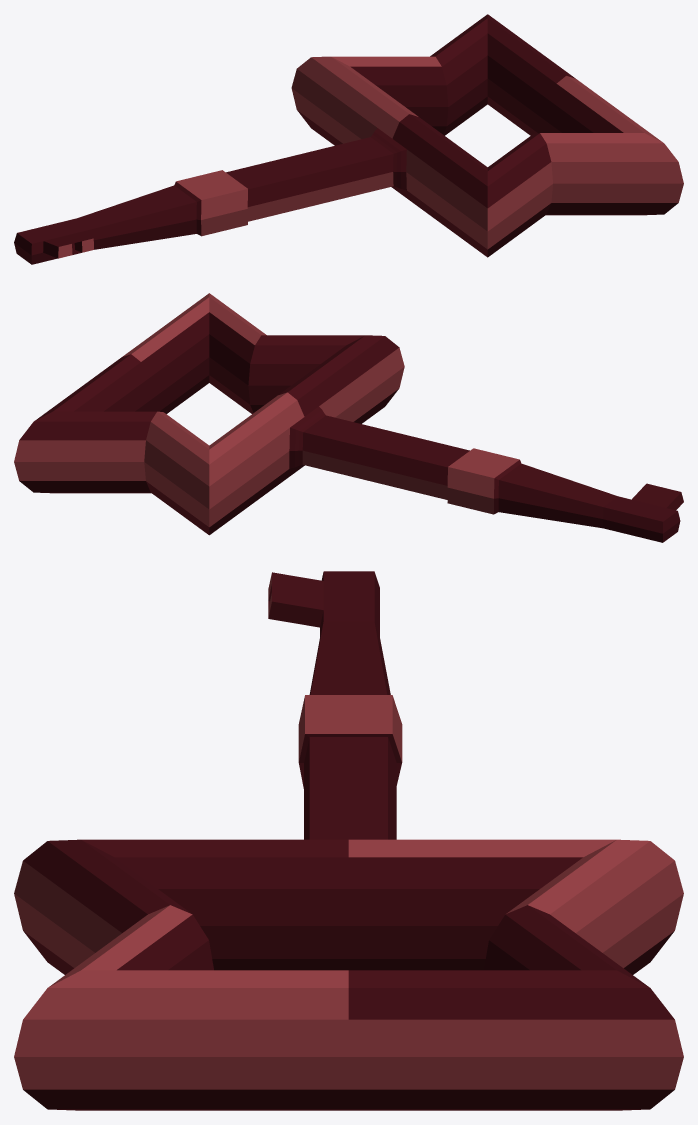
Rendered from MazeKeyvv4.glb.
3 renders of one model, top to bottom at view 1: azimuth 30°, elevation 25°; view 2: azimuth 150°, elevation 25°; view 3: azimuth 270°, elevation 25°, orthographic. The views are drawn at different scales.
Visible parts, largest first — view 1: Torus; view 2: Torus; view 3: Torus.
Part boxes in pixels (x1=…): Torus: x1=14, y1=14, x2=683, y2=264; Torus: x1=14, y1=293, x2=683, y2=542; Torus: x1=14, y1=571, x2=683, y2=1110.
Size of the model in its own units: 3.58 by 0.5 by 2.17.
